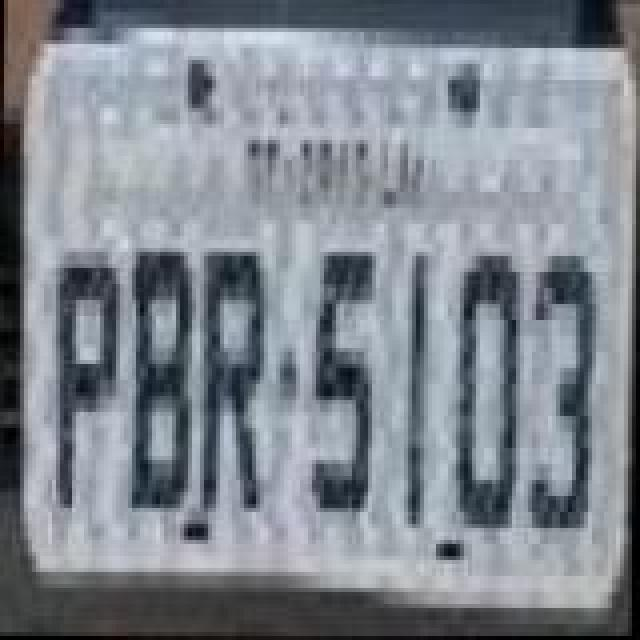1: (402, 248, 430, 536)
3: (528, 248, 600, 536)
5: (310, 244, 378, 520)
B: (128, 246, 200, 518)
O: (458, 248, 526, 548)
P: (52, 258, 124, 518)
R: (196, 240, 268, 520)
